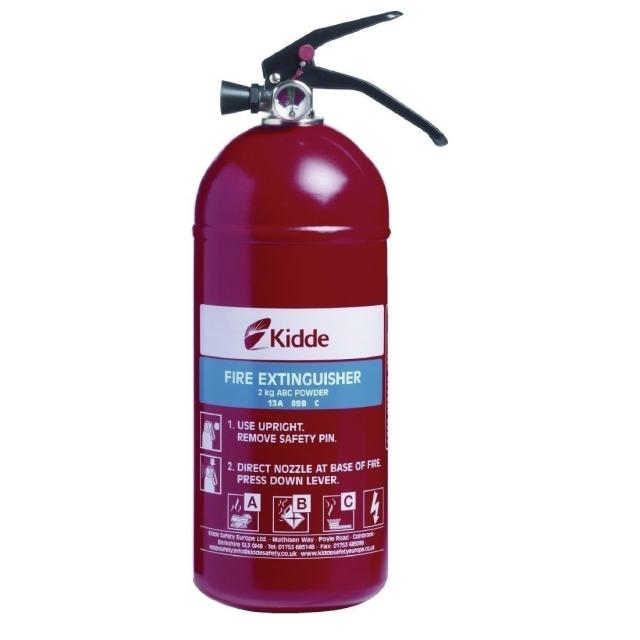fire_extinguisher: (184, 6, 454, 618)
